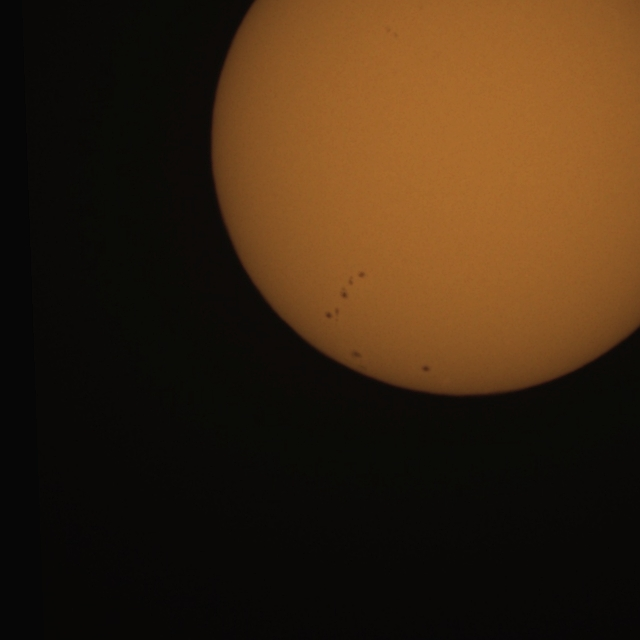sunspot: (339, 270, 366, 300), (324, 306, 342, 322), (385, 26, 399, 38), (349, 349, 363, 360), (420, 364, 432, 374)
